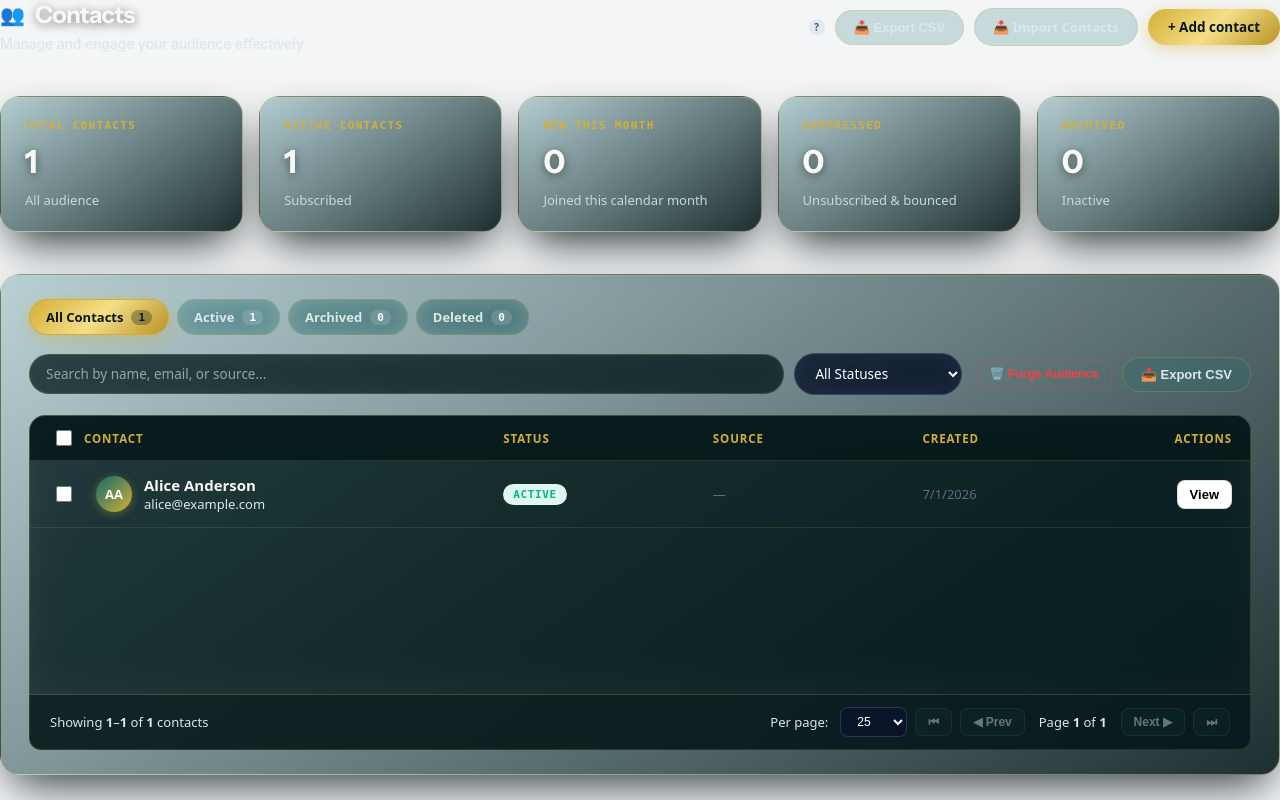
Scenario: ContactsPage › loads and displays a contact's consent history
This screenshot has width=1280, height=800.
expect the text "Alice Anderson" is shown: met, box top-left (144, 475), bottom-right (265, 495)
Click the button "View".
click(1204, 494)  # box top-left (1177, 480), bottom-right (1232, 509)
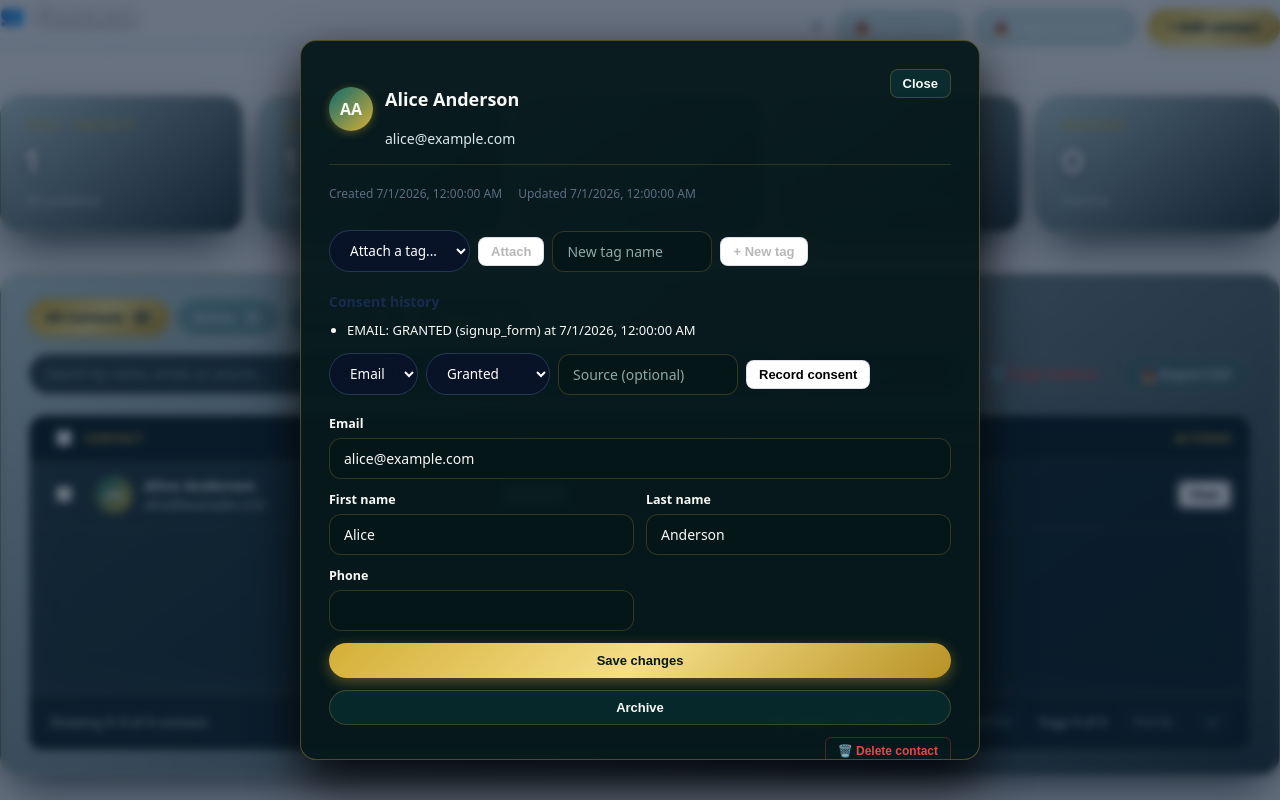
expect the list item "EMAIL: GRANTED (signup_form) at 7/1/2026, 12:00:00 AM" is shown: met, box top-left (347, 321), bottom-right (696, 339)
